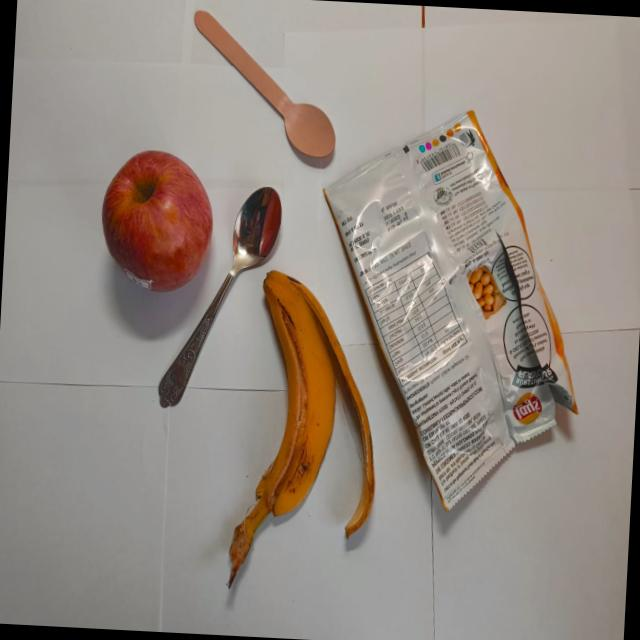Apple-Bio: (92, 143, 218, 299)
Banana-Bio: (221, 264, 388, 602)
Plastic-NonBio: (302, 91, 596, 522)
Steel-NonBio: (151, 176, 284, 418)
Wooden Spoon-Bio: (184, 5, 343, 163)
